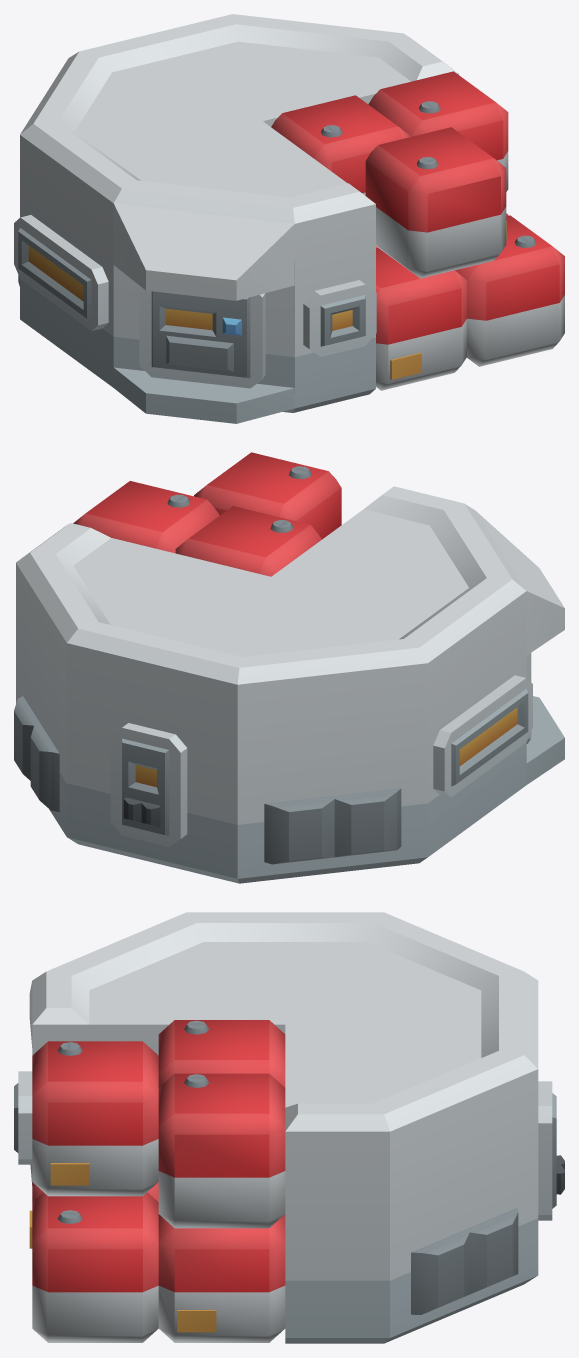
Rendered from cargodepot_b.glb.
3 renders of one model, top to bottom at view 1: azimuth 30°, elevation 25°; view 2: azimuth 150°, elevation 25°; view 3: azimuth 270°, elevation 25°, orthographic. The views are drawn at different scales.
Visible parts, largest first — view 1: cargodepot_B; view 2: cargodepot_B; view 3: cargodepot_B.
Boxes of the visible parts, x1,y1,x2,y2 form: cargodepot_B: [14, 14, 564, 423]; cargodepot_B: [14, 452, 564, 883]; cargodepot_B: [14, 912, 564, 1343].
Size of the model in its own units: 6.25 by 3.06 by 6.53.
1 material, 1 textured.
